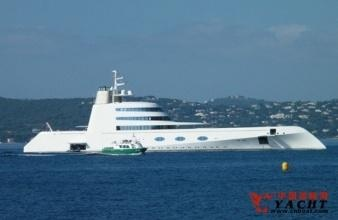yacht: (15, 70, 322, 159)
